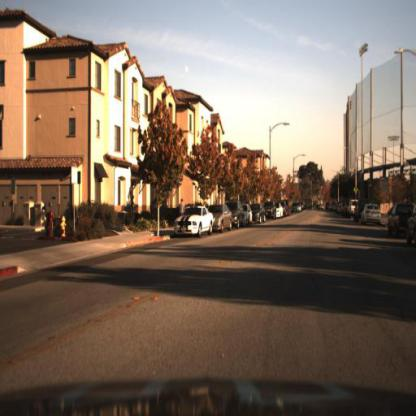car: (175, 203, 214, 237), (385, 202, 416, 238), (209, 201, 234, 232), (360, 203, 385, 230), (209, 203, 233, 231), (227, 197, 246, 228), (251, 203, 269, 228), (241, 204, 254, 229), (264, 198, 277, 223), (274, 201, 285, 222)
pedestrian: (177, 198, 187, 222)
